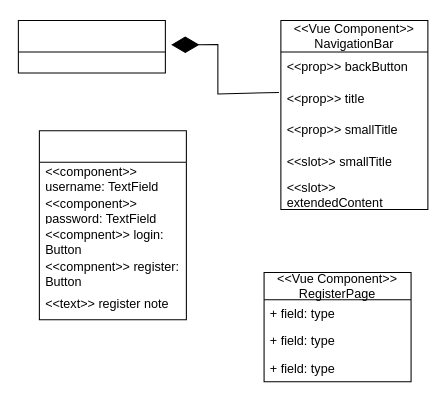
This 446x403 diagram has some shape labels left out. Here are the shapes that lost their labels. From the top down, the box of each, then its label:
(17, 19, 165, 73): <<Vue Component>>App
(38, 130, 186, 320): <<Vue Component>> LoginPage
